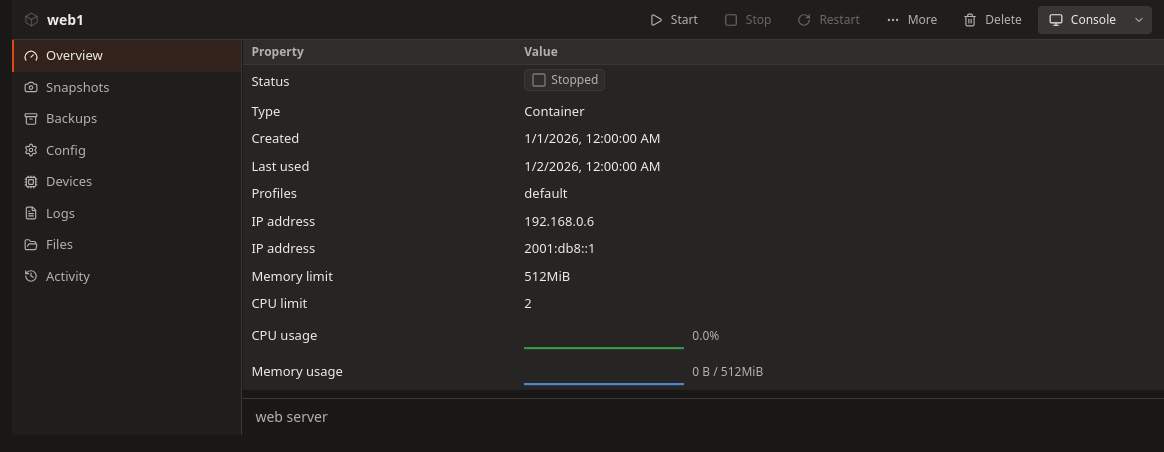
Test case: InstanceDetailPage › renders the devices tab
The image size is (1164, 452).
Check: the text "web1" is shown, box [24,10,84,30]
Click the tab with test id "vtab-devices": (127, 182) [12,166,241,198]
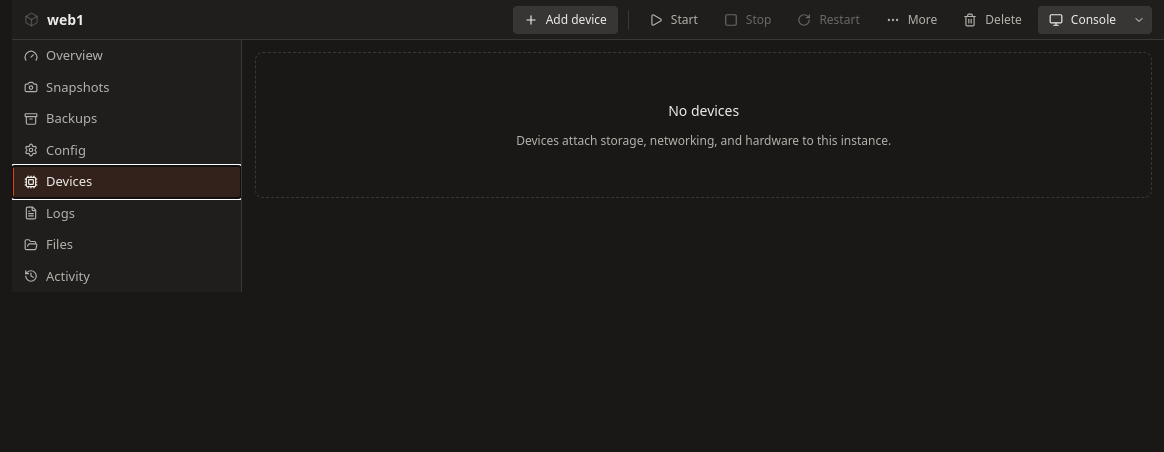
Check: the element with test id "devices-tab" is shown, box [243,52,1163,198]
